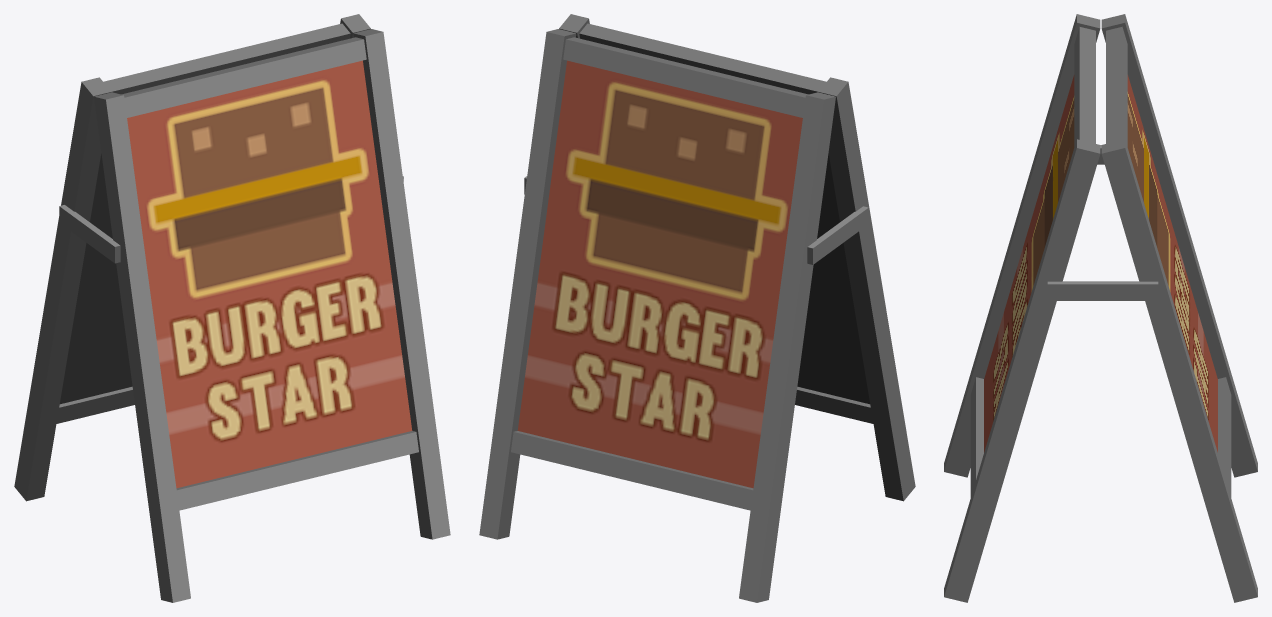
File: SM_SignFolding_01.fbx
The picture shows the model from 3 angles, left to right: view 1: azimuth 30°, elevation 25°; view 2: azimuth 150°, elevation 25°; view 3: azimuth 270°, elevation 25°; orthographic projection.
Visible parts, largest first — view 1: SM_SignFolding_01; view 2: SM_SignFolding_01; view 3: SM_SignFolding_01.
Part boxes in pixels (x1,y1,x2,y2): SM_SignFolding_01: (14,14,450,602); SM_SignFolding_01: (479,14,915,602); SM_SignFolding_01: (944,14,1257,602).
Size of the model in its own units: 1.06 by 1.62 by 1.01.
